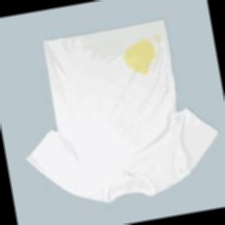mustard: (123, 40, 159, 79), (155, 32, 165, 44)
